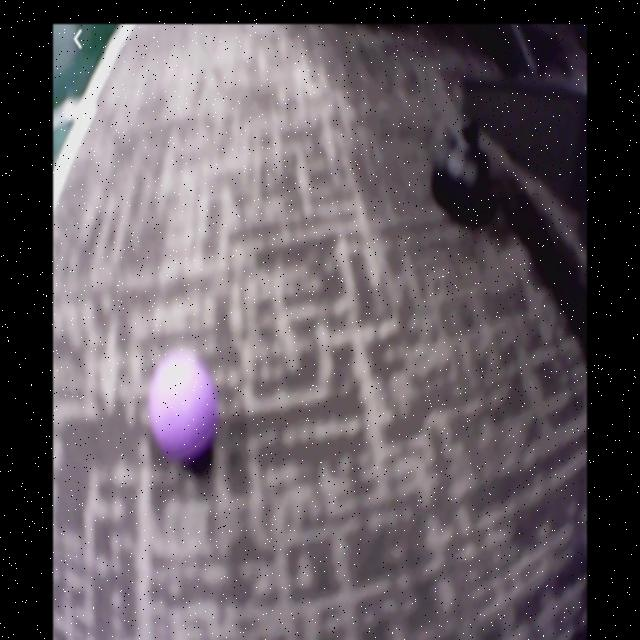ball: (149, 354, 217, 460)
